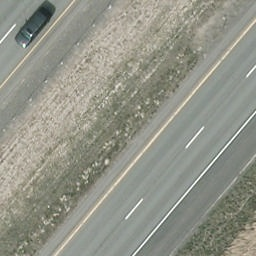car: (13, 9, 53, 50)
